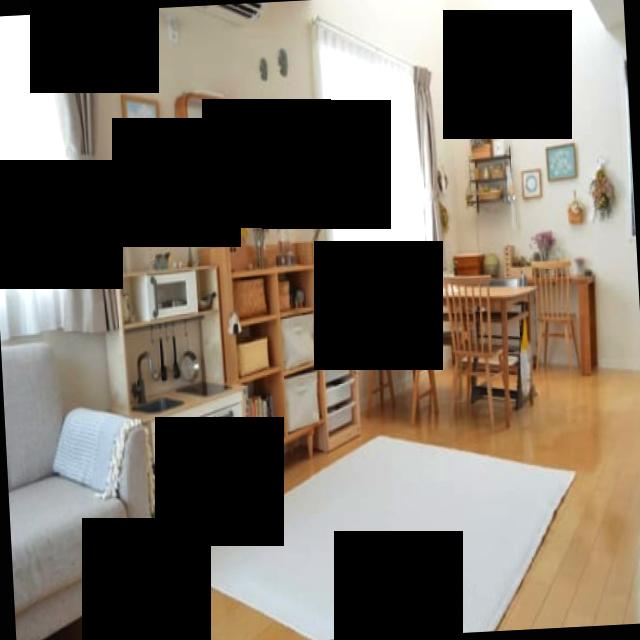natural chair: (360, 294, 437, 426), (443, 272, 503, 436)
natural desk: (371, 280, 544, 423)
natural shelf: (230, 234, 336, 483)
